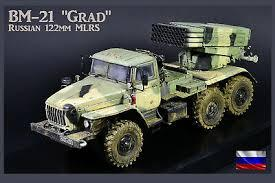MIL_SAM_TEL: (34, 22, 255, 166)
